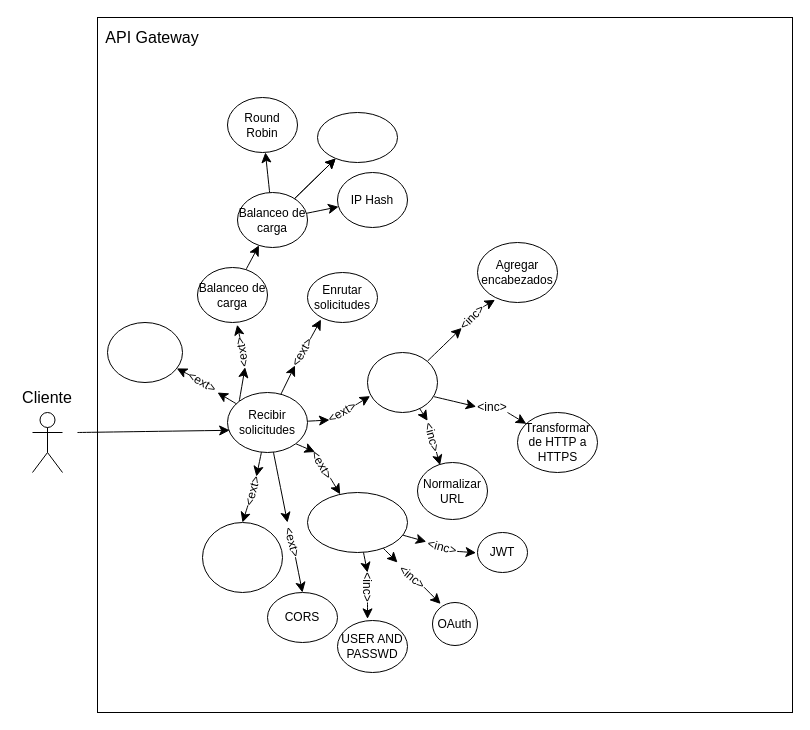
The diagram is 810 pixels wide and 730 high, and some of its shapes have lost their labels. The box of each missing label's shape, as (x1, y1, x2, y2) in pixels:
Actor: (32, 412, 62, 472)
AUTH Y AUTORIZACION: (306, 492, 408, 552)
Least Connections: (316, 112, 398, 162)
Monitoreo y registro: (106, 322, 182, 382)
Rate limitng: (202, 522, 282, 592)
Transformar solicitudes: (366, 352, 438, 412)
